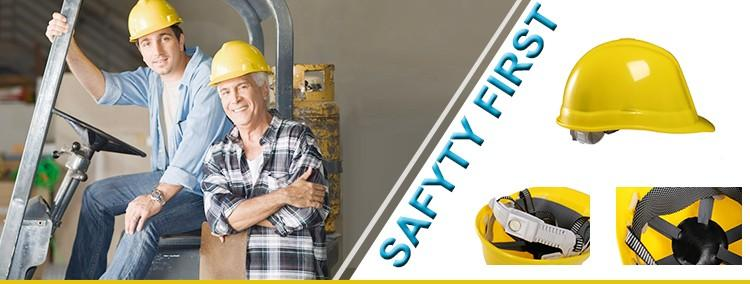helmet: (558, 40, 717, 140), (471, 188, 593, 274), (614, 186, 744, 266), (208, 39, 274, 86), (129, 1, 182, 40)
